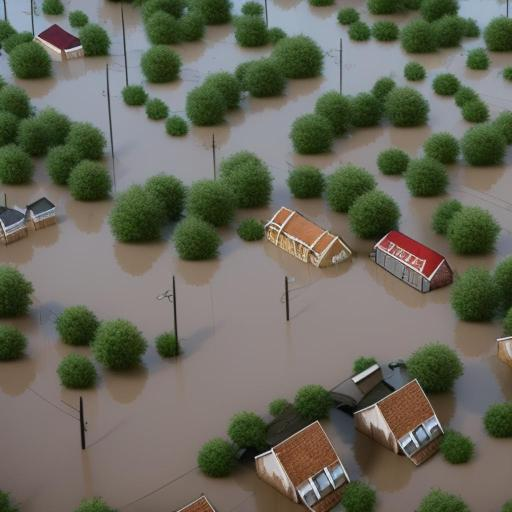flood: (0, 0, 512, 512), (124, 4, 272, 127), (460, 0, 507, 29), (6, 0, 30, 30)
house: (256, 413, 347, 512), (358, 376, 444, 463), (374, 224, 450, 296), (266, 203, 347, 269), (34, 23, 82, 67), (27, 196, 58, 234), (0, 204, 26, 243)
